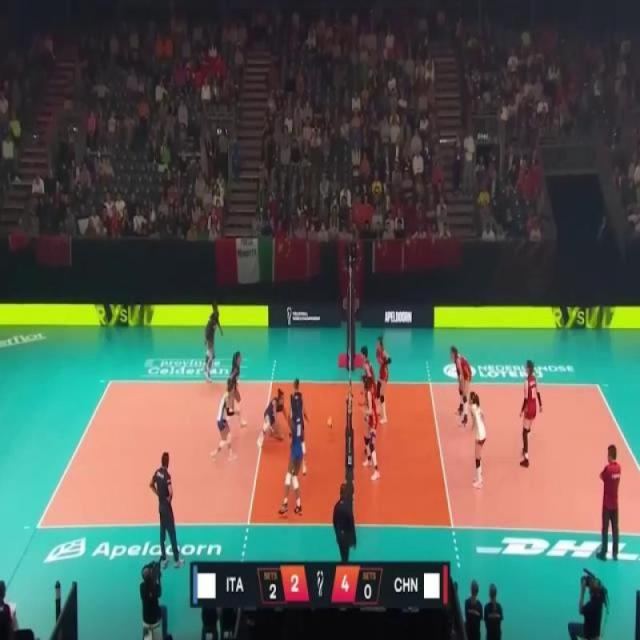volleyball: (326, 416, 333, 430)
